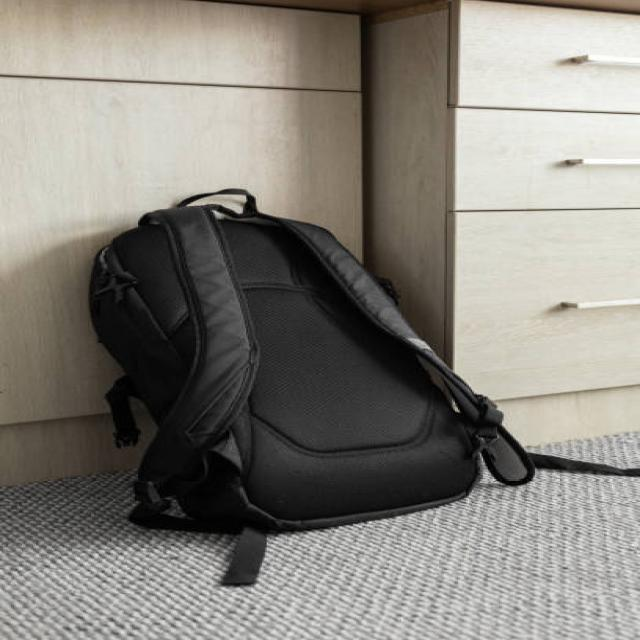Backpacks: (65, 185, 528, 534)
